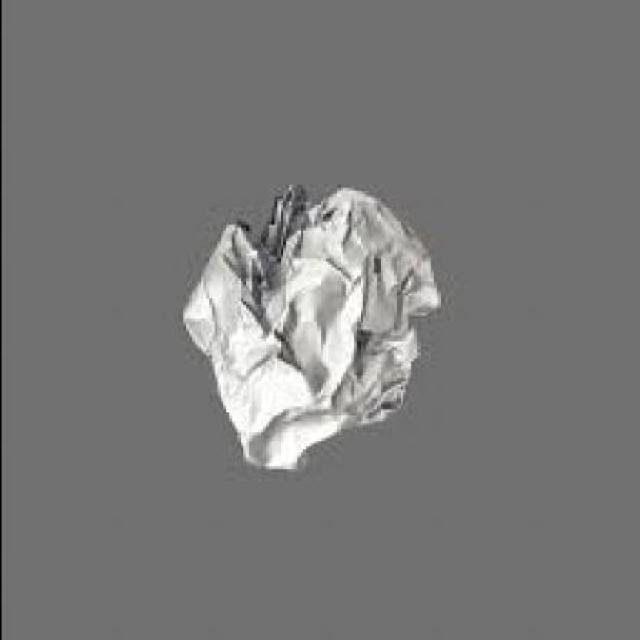PAPER: (176, 186, 438, 474)
